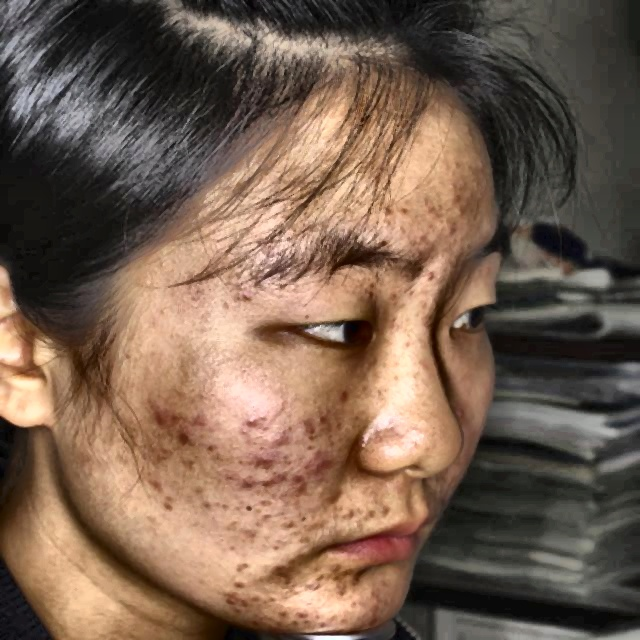papule: (215, 583, 248, 615), (150, 493, 182, 518), (296, 573, 326, 594), (444, 178, 479, 196), (329, 580, 356, 603), (246, 448, 275, 468), (145, 406, 174, 426), (325, 485, 349, 509), (144, 471, 170, 493), (365, 590, 391, 612), (383, 201, 410, 221), (287, 468, 306, 496), (416, 265, 448, 281), (437, 226, 464, 244), (287, 607, 311, 627), (303, 456, 328, 475), (338, 509, 361, 529), (235, 411, 259, 430), (374, 503, 399, 519), (362, 612, 384, 630), (259, 470, 273, 498), (232, 474, 251, 494), (226, 577, 256, 589), (264, 562, 287, 577), (178, 429, 188, 458), (451, 198, 465, 217), (270, 430, 287, 445), (189, 412, 210, 424), (429, 195, 437, 224)
